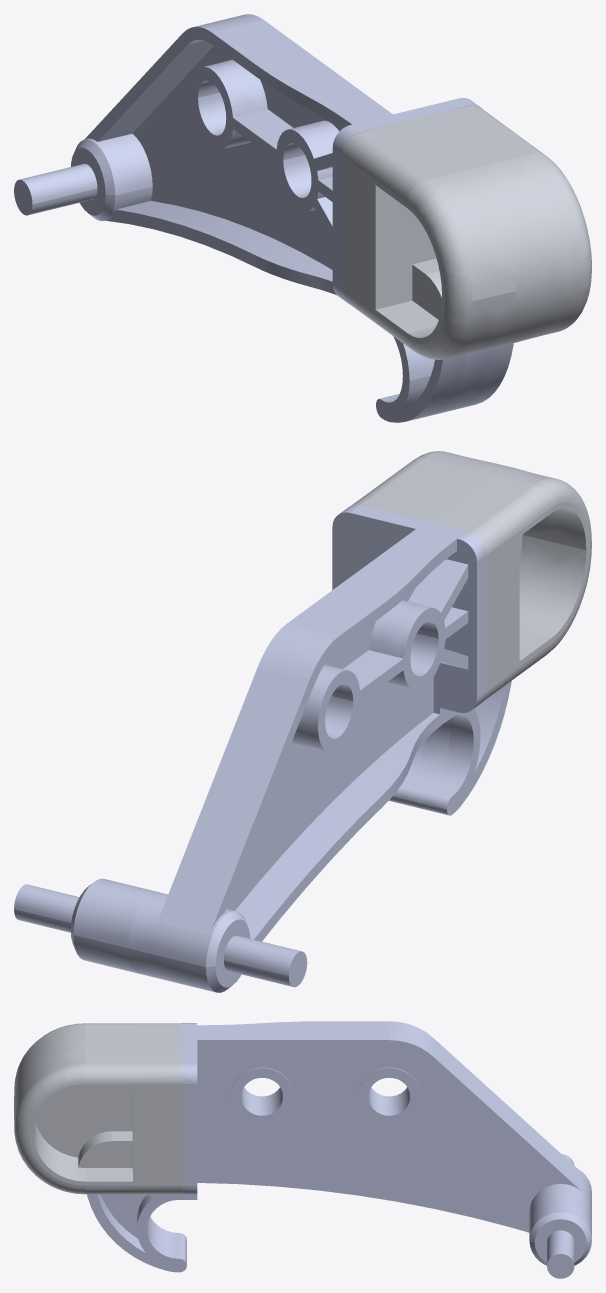
The model's file is Airplane Nose Hook (228-2500-1700).glb.
The picture shows the model from 3 angles, top to bottom: view 1: azimuth 30°, elevation 25°; view 2: azimuth 150°, elevation 25°; view 3: azimuth 270°, elevation 25°; orthographic projection. The views are drawn at different scales.
Parts seen in each view (by area): view 1: Airplane Nose Hook (228-2500-1700); view 2: Airplane Nose Hook (228-2500-1700); view 3: Airplane Nose Hook (228-2500-1700).
Boxes of the visible parts, x1,y1,x2,y2 form: Airplane Nose Hook (228-2500-1700): [14, 14, 591, 422]; Airplane Nose Hook (228-2500-1700): [14, 451, 591, 992]; Airplane Nose Hook (228-2500-1700): [14, 1021, 591, 1278].
Bounding box in the file's own units: 0.93 × 0.9341 × 2.27.
